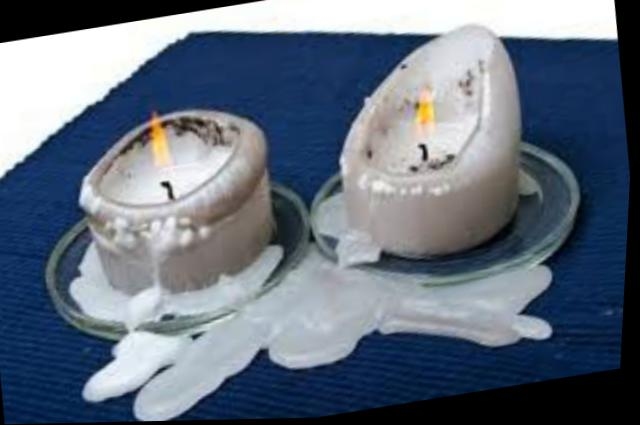fire: (136, 103, 187, 174), (400, 83, 447, 150)
